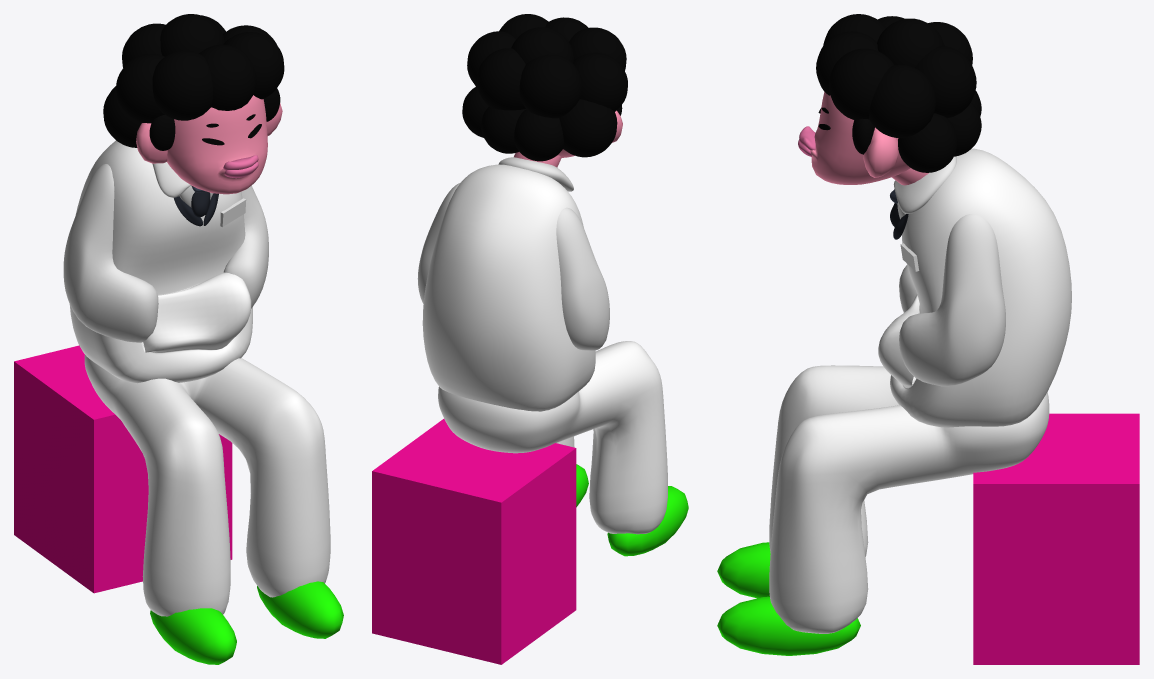
File: student.glb
3 renders of one model, left to right at view 1: azimuth 30°, elevation 25°; view 2: azimuth 150°, elevation 25°; view 3: azimuth 270°, elevation 25°, orthographic. The views are drawn at different scales.
Parts seen in each view (by area): view 1: pCube10, pCube9, 1body1, hair, 3-2body, pCube1, pCube13, pCube12, 아이코스피어; view 2: pCube9, 1body1, pCube10, hair, 3-2body, pCube13, 아이코스피어; view 3: pCube9, pCube10, 1body1, hair, 3-2body, pCube1, pCube12, pCube13, 아이코스피어.
Part boxes in pixels (x1=…): pCube10: x1=84, y1=342, x2=330, y2=616; pCube9: x1=14, y1=345, x2=232, y2=593; 1body1: x1=69, y1=140, x2=252, y2=383; hair: x1=103, y1=14, x2=284, y2=150; 3-2body: x1=63, y1=164, x2=268, y2=342; pCube1: x1=136, y1=95, x2=282, y2=194; pCube13: x1=150, y1=608, x2=236, y2=664; pCube12: x1=257, y1=581, x2=343, y2=638; 아이코스피어: x1=152, y1=162, x2=190, y2=197; pCube9: x1=372, y1=419, x2=576, y2=664; 1body1: x1=422, y1=164, x2=595, y2=411; pCube10: x1=438, y1=341, x2=667, y2=534; hair: x1=462, y1=14, x2=627, y2=161; 3-2body: x1=417, y1=182, x2=609, y2=350; pCube13: x1=607, y1=486, x2=688, y2=556; 아이코스피어: x1=498, y1=157, x2=573, y2=191; pCube9: x1=973, y1=413, x2=1139, y2=664; pCube10: x1=769, y1=365, x2=1049, y2=633; 1body1: x1=878, y1=148, x2=1071, y2=427; hair: x1=816, y1=14, x2=981, y2=172; 3-2body: x1=899, y1=214, x2=1005, y2=386; pCube1: x1=810, y1=92, x2=928, y2=185; pCube12: x1=717, y1=596, x2=860, y2=655; pCube13: x1=717, y1=542, x2=770, y2=598; 아이코스피어: x1=893, y1=156, x2=956, y2=213.
Size of the model in its own units: 0.4183 by 1.21 by 0.7618.
